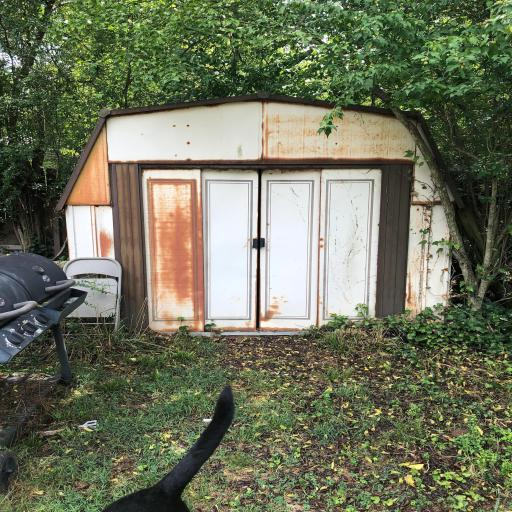segmentation: (147, 177, 204, 331), (148, 178, 202, 325), (66, 126, 110, 205), (109, 158, 412, 169), (406, 235, 430, 313), (99, 224, 113, 257), (410, 206, 431, 228), (219, 325, 256, 332), (259, 327, 302, 332), (411, 198, 440, 205), (207, 327, 219, 331), (320, 238, 324, 247)
